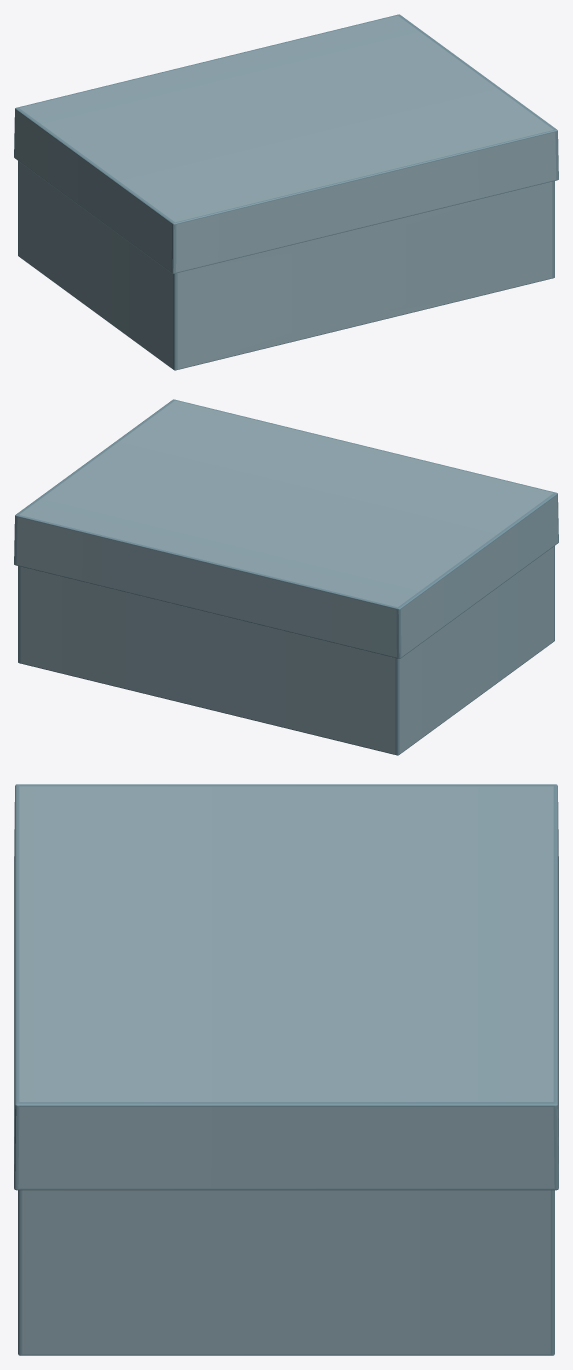
File: Light Blue Shoebox.fbx
The picture shows the model from 3 angles, top to bottom: view 1: azimuth 30°, elevation 25°; view 2: azimuth 150°, elevation 25°; view 3: azimuth 270°, elevation 25°; orthographic projection. The views are drawn at different scales.
Parts seen in each view (by area): view 1: Light Blue Shoebox; view 2: Light Blue Shoebox; view 3: Light Blue Shoebox.
Boxes of the visible parts, x1,y1,x2,y2 form: Light Blue Shoebox: [14, 14, 558, 370]; Light Blue Shoebox: [14, 399, 558, 755]; Light Blue Shoebox: [14, 784, 558, 1355].
Size of the model in its own units: 95.2 by 186 by 260.
1 material, 1 textured.
